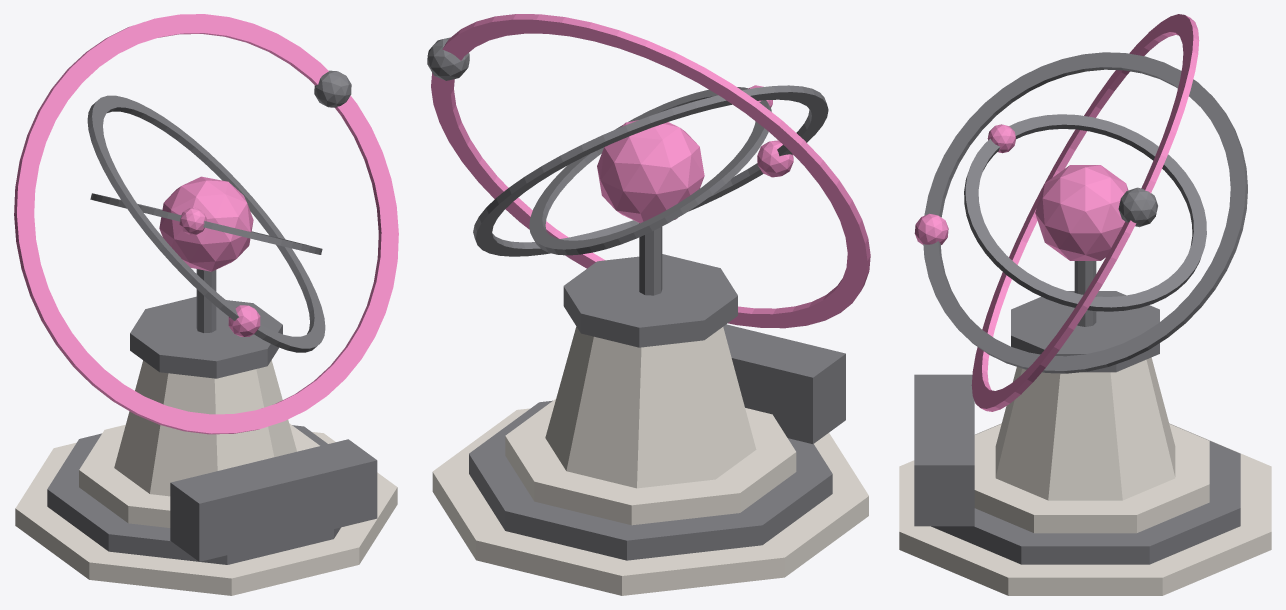
File: orrery.glb
3 views of the same model, side by side, from view 1: azimuth 30°, elevation 25°; view 2: azimuth 150°, elevation 25°; view 3: azimuth 270°, elevation 25° (orthographic). The views are drawn at different scales.
Visible parts, largest first — view 1: pedestal, ring_01, ring_02, sign_board, sphere, ring_03, spindle; view 2: pedestal, ring_01, ring_02, sphere, ring_03, spindle; view 3: pedestal, ring_02, ring_01, ring_03, sphere, spindle.
Part boxes in pixels (box(x1,y1,x2,y2)): pedestal: box(15, 296, 397, 595); ring_01: box(14, 14, 398, 434); ring_02: box(87, 95, 325, 352); sign_board: box(208, 473, 369, 550); sphere: box(159, 176, 253, 271); ring_03: box(90, 193, 322, 254); spindle: box(196, 269, 216, 332); pedestal: box(432, 254, 868, 595); ring_01: box(427, 14, 870, 328); ring_02: box(473, 85, 828, 256); sphere: box(597, 120, 704, 223); ring_03: box(529, 85, 772, 255); spindle: box(639, 223, 662, 295); pedestal: box(899, 291, 1271, 595); ring_02: box(914, 52, 1247, 373); ring_01: box(971, 14, 1199, 411); ring_03: box(964, 114, 1206, 311); sphere: box(1035, 165, 1128, 260); spindle: box(1074, 261, 1096, 326).
Size of the model in its own units: 6.6 by 7.88 by 5.54.
